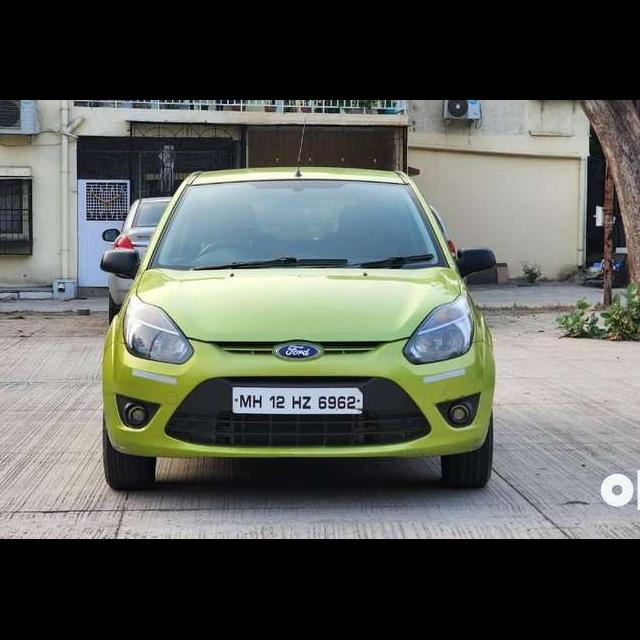Indian_Number_Plate: (232, 386, 364, 416)
